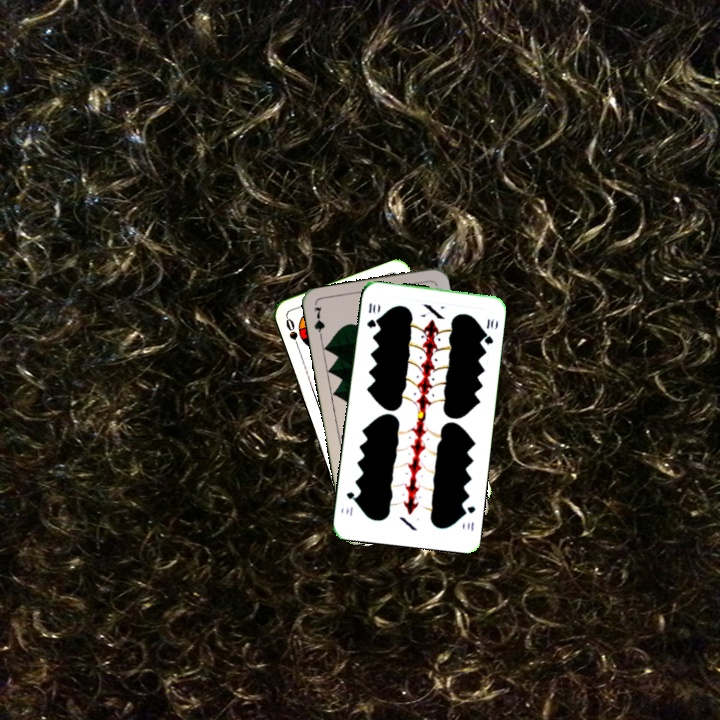G10: (458, 502, 478, 534), (363, 299, 379, 330)
G7: (310, 302, 327, 343)
SO: (282, 314, 302, 353)
